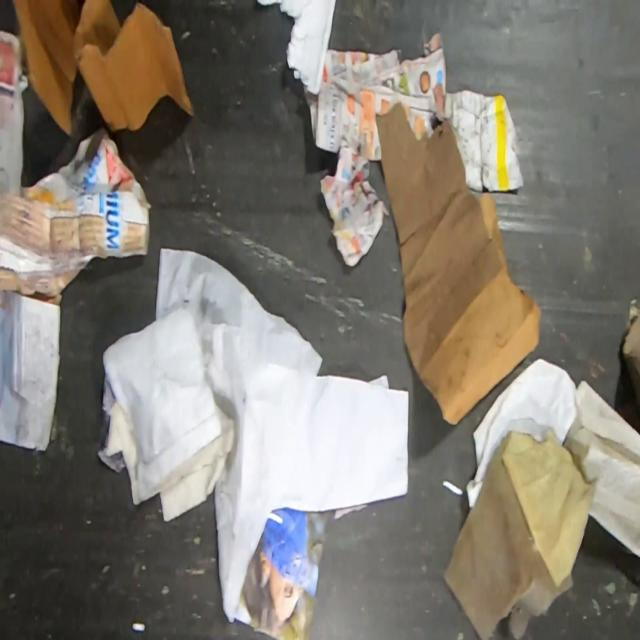cardboard: (374, 97, 542, 425), (0, 129, 152, 297), (10, 0, 196, 135), (622, 299, 640, 407)
